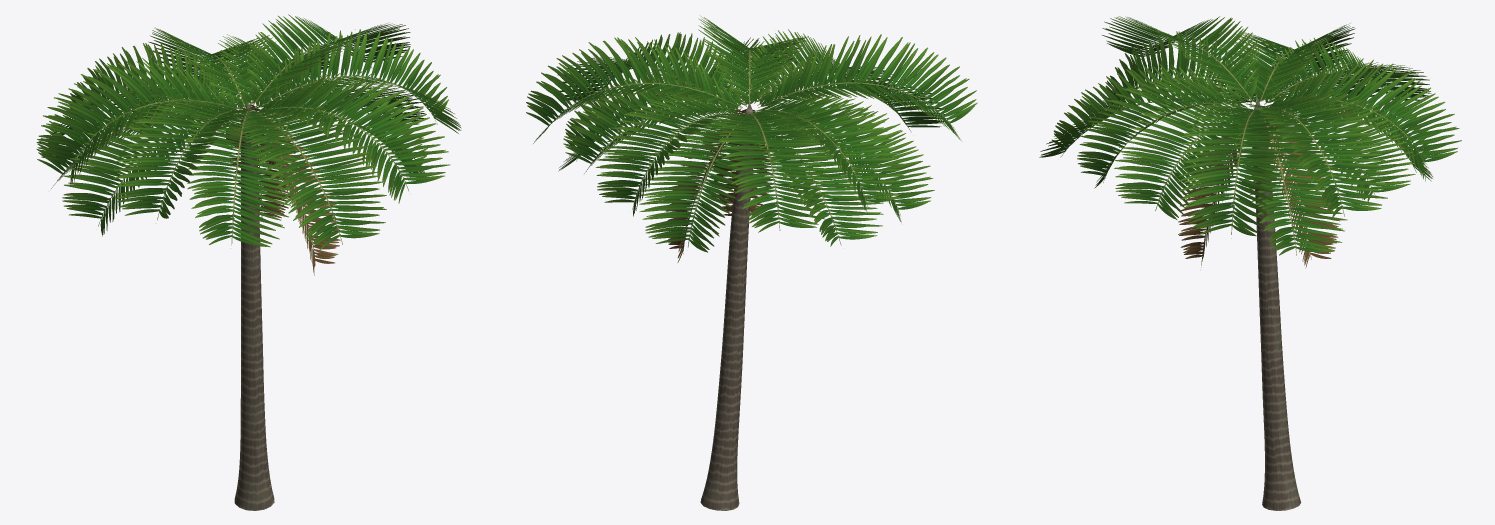
The model's file is palm_tree_03.glb.
3 renders of one model, left to right at view 1: azimuth 30°, elevation 25°; view 2: azimuth 150°, elevation 25°; view 3: azimuth 270°, elevation 25°, orthographic. The views are drawn at different scales.
Visible parts, largest first — view 1: palm_tree_03; view 2: palm_tree_03; view 3: palm_tree_03.
Part boxes in pixels (box(x1,y1,x2,y2)): palm_tree_03: box(36, 14, 461, 510); palm_tree_03: box(526, 16, 977, 510); palm_tree_03: box(1039, 16, 1461, 510).
Size of what is drawn, in the model's own units: 6.5 by 6.94 by 6.53.
Materials: 3 (3 with a texture image).
